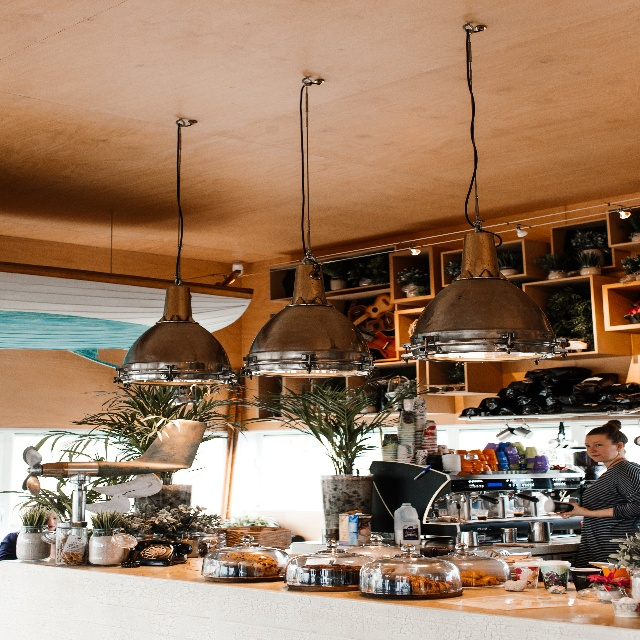Sin_guantes: (555, 503, 586, 519)
